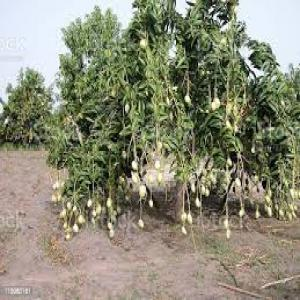Tree: (44, 3, 298, 240)
